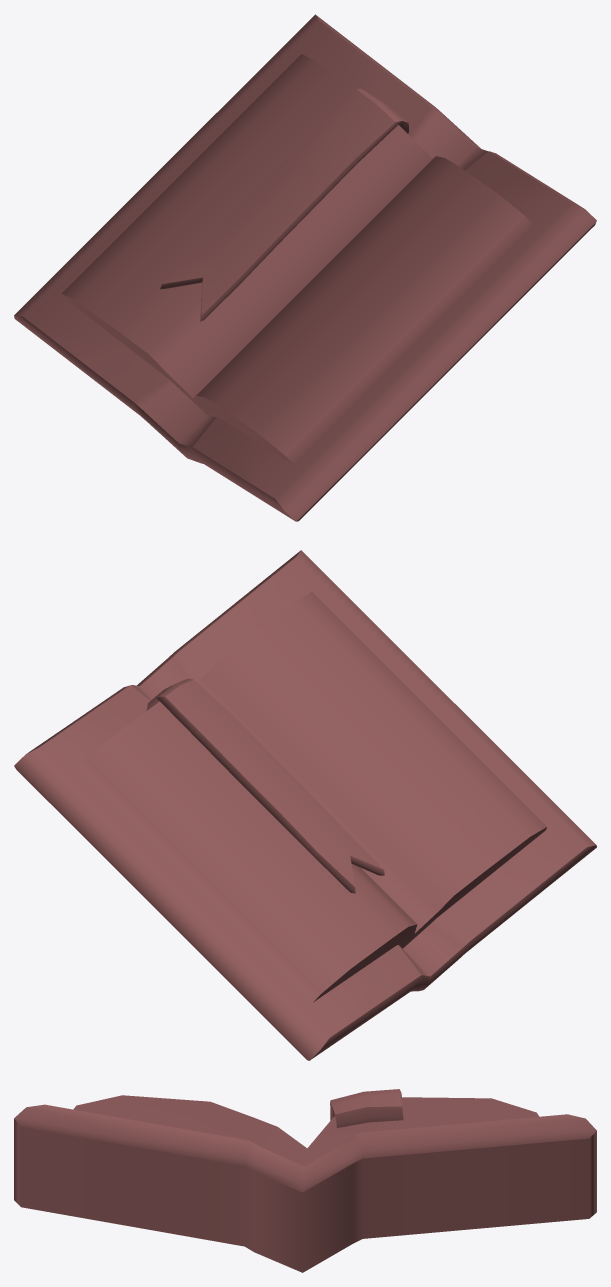
Rendered from Book.fbx.
The picture shows the model from 3 angles, top to bottom: view 1: azimuth 30°, elevation 25°; view 2: azimuth 150°, elevation 25°; view 3: azimuth 270°, elevation 25°; orthographic projection. The views are drawn at different scales.
Visible parts, largest first — view 1: Book; view 2: Book; view 3: Book.
Part boxes in pixels (x1=…): Book: x1=14, y1=14, x2=596, y2=521; Book: x1=14, y1=550, x2=596, y2=1060; Book: x1=14, y1=1089, x2=596, y2=1272.
Bounding box in the file's own units: 1.45 × 1.17 × 2.11.
